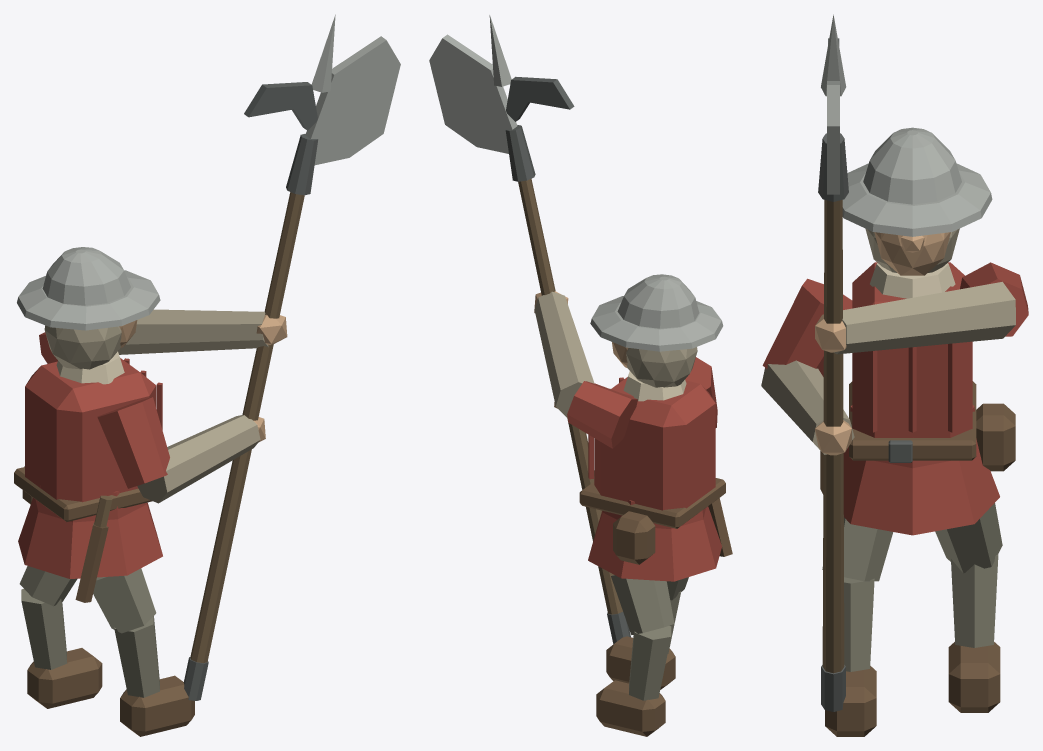
Rendered from infantry_halberd.glb.
The picture shows the model from 3 angles, left to right: view 1: azimuth 30°, elevation 25°; view 2: azimuth 150°, elevation 25°; view 3: azimuth 270°, elevation 25°; orthographic projection. The views are drawn at different scales.
Parts seen in each view (by area): view 1: infantry_halberd_team_cloth, infantry_halberd_steel, infantry_halberd_padded_linen, infantry_halberd_leather, infantry_halberd_hose, infantry_halberd_oak_dark, infantry_halberd_iron, infantry_halberd_skin, infantry_halberd_linen; view 2: infantry_halberd_team_cloth, infantry_halberd_steel, infantry_halberd_leather, infantry_halberd_padded_linen, infantry_halberd_hose, infantry_halberd_iron, infantry_halberd_oak_dark, infantry_halberd_linen; view 3: infantry_halberd_team_cloth, infantry_halberd_steel, infantry_halberd_padded_linen, infantry_halberd_leather, infantry_halberd_hose, infantry_halberd_oak_dark, infantry_halberd_skin, infantry_halberd_iron, infantry_halberd_linen.
Part boxes in pixels (x1,y1,x2,y2): infantry_halberd_team_cloth: [18, 332, 169, 578]; infantry_halberd_steel: [17, 14, 400, 330]; infantry_halberd_padded_linen: [44, 309, 268, 503]; infantry_halberd_leather: [14, 466, 194, 736]; infantry_halberd_hose: [19, 566, 159, 697]; infantry_halberd_oak_dark: [94, 192, 304, 663]; infantry_halberd_iron: [183, 82, 318, 700]; infantry_halberd_skin: [119, 314, 287, 442]; infantry_halberd_linen: [56, 351, 124, 384]; infantry_halberd_team_cloth: [567, 357, 721, 581]; infantry_halberd_steel: [429, 15, 723, 351]; infantry_halberd_leather: [579, 478, 732, 736]; infantry_halberd_padded_linen: [534, 291, 697, 417]; infantry_halberd_hose: [611, 575, 688, 700]; infantry_halberd_iron: [505, 76, 630, 643]; infantry_halberd_oak_dark: [518, 178, 622, 614]; infantry_halberd_linen: [623, 371, 686, 401]; infantry_halberd_team_cloth: [762, 262, 1028, 535]; infantry_halberd_steel: [821, 14, 992, 236]; infantry_halberd_padded_linen: [761, 228, 1015, 454]; infantry_halberd_leather: [820, 381, 1015, 736]; infantry_halberd_hose: [822, 503, 1002, 671]; infantry_halberd_oak_dark: [822, 200, 844, 673]; infantry_halberd_skin: [815, 232, 950, 455]; infantry_halberd_iron: [818, 38, 912, 711]; infantry_halberd_linen: [870, 263, 955, 298].
Bounding box in the file's own units: 1.37 × 2.6 × 0.7783.
